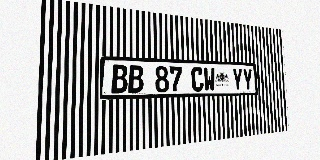7: (169, 66, 183, 92)
8: (155, 66, 169, 92)
B: (111, 64, 128, 93), (128, 65, 143, 93)
C: (191, 67, 204, 92)
W: (203, 67, 215, 91)
Y: (232, 68, 243, 91), (242, 68, 253, 91)
